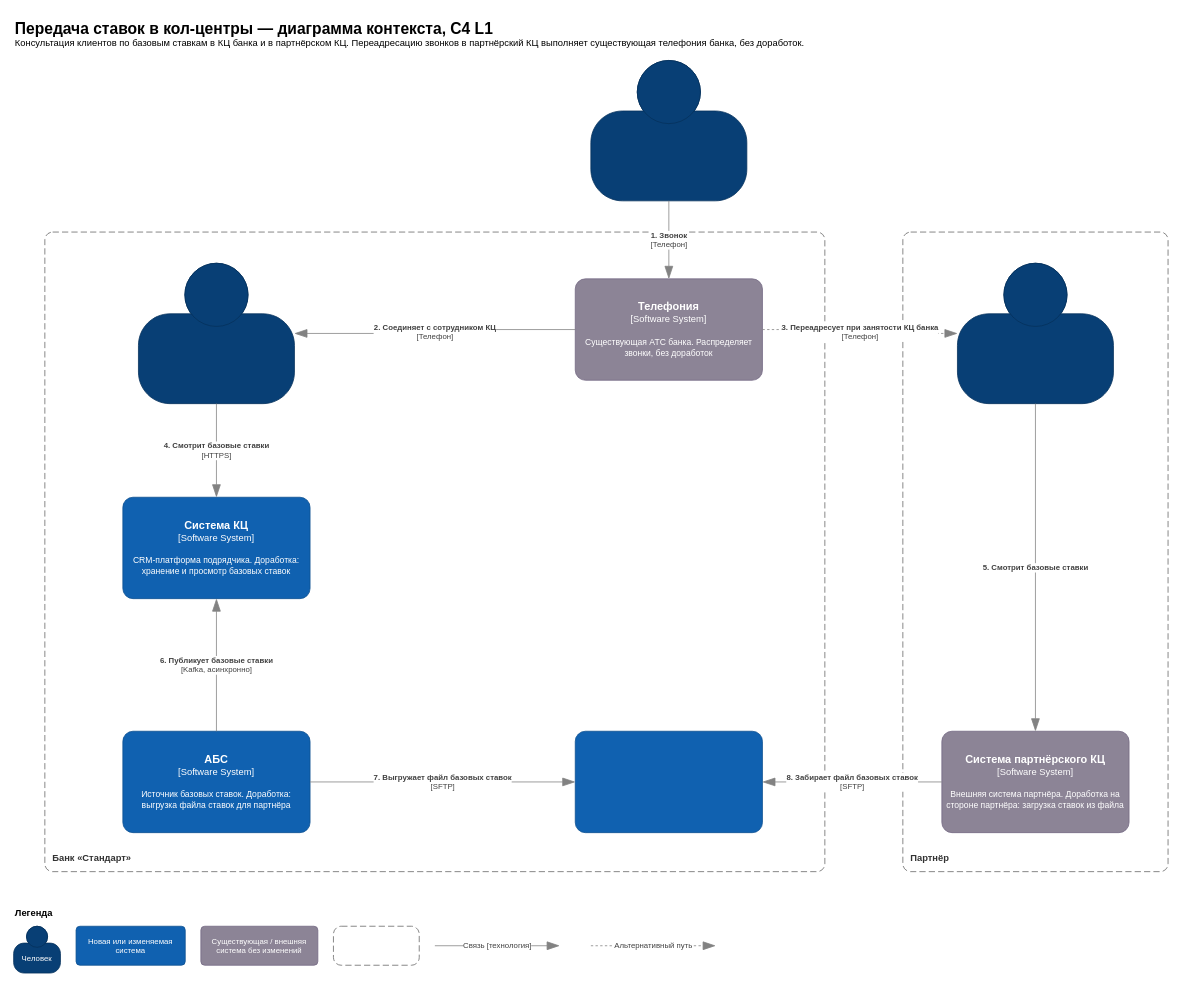
The diagram is 1197 pixels wide and 987 high, and some of its shapes have lost their labels. Each missing label, with the centre of its shape:
"SFTP-сервер [Software System] Новый. Обмен файлами ставок с партнёрским КЦ" belongs at (668,781).
"Граница" belongs at (376,945).
"Клиент [Person] Существующий или потенциальный клиент банка" belongs at (668,130).
"Сотрудник КЦ [Person] Оператор кол-центра банка" belongs at (216,333).
"Сотрудник партнёрского КЦ [Person] Оператор кол-центра партнёра" belongs at (1035,333).
